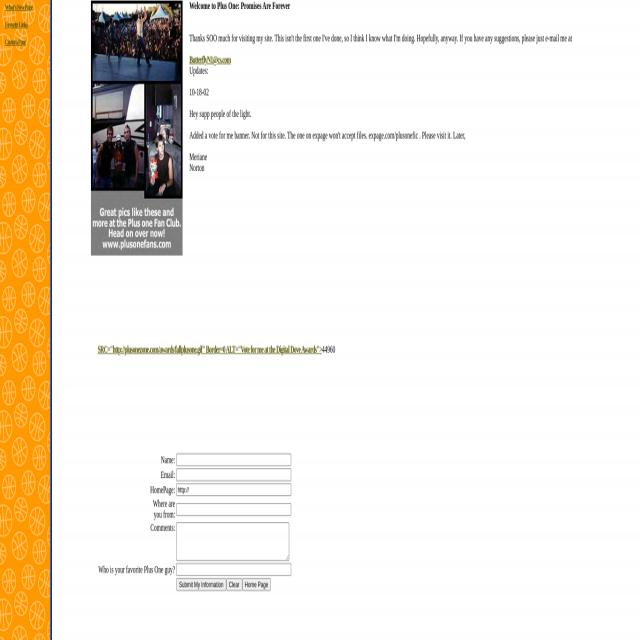button: (91, 1, 183, 256), (176, 578, 226, 591), (242, 578, 272, 591), (226, 578, 242, 591)
field: (176, 522, 290, 561), (176, 483, 292, 496), (176, 563, 292, 576), (176, 454, 292, 466), (176, 469, 292, 481), (176, 503, 292, 515)
